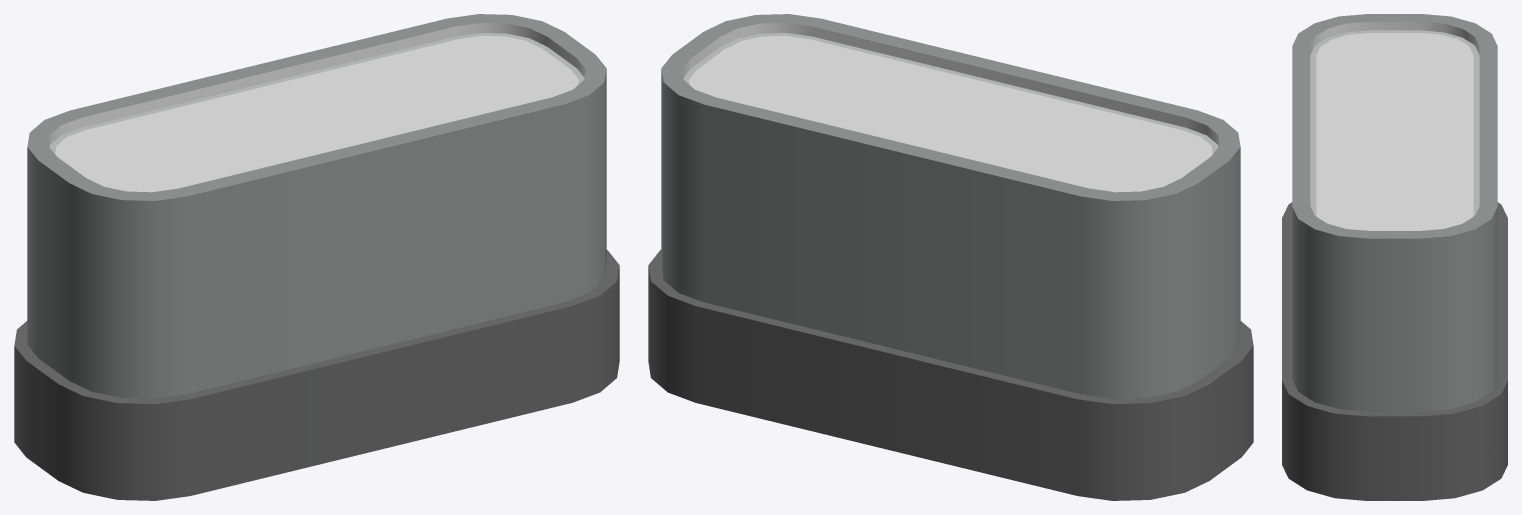
Rendered from Ground_Seat.fbx.
3 renders of one model, left to right at view 1: azimuth 30°, elevation 25°; view 2: azimuth 150°, elevation 25°; view 3: azimuth 270°, elevation 25°, orthographic. The views are drawn at different scales.
Parts seen in each view (by area): view 1: Ground_Seat; view 2: Ground_Seat; view 3: Ground_Seat.
Part boxes in pixels (bbox=[...]): Ground_Seat: bbox=[14, 14, 619, 500]; Ground_Seat: bbox=[648, 14, 1253, 500]; Ground_Seat: bbox=[1282, 14, 1507, 500].
Bounding box in the file's own units: 832 × 427 × 339.
